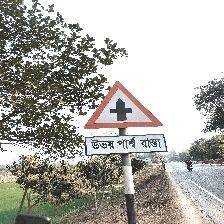Crossroad: (82, 81, 167, 156)
